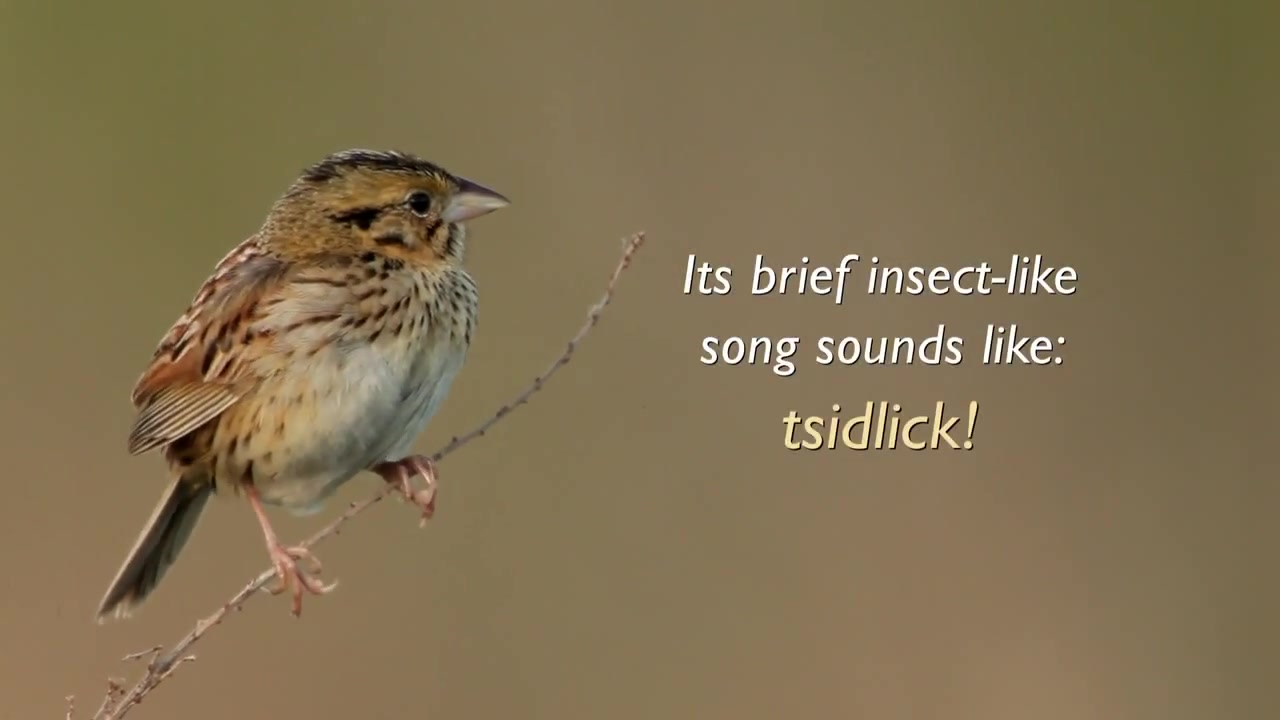bird: (96, 149, 515, 627)
